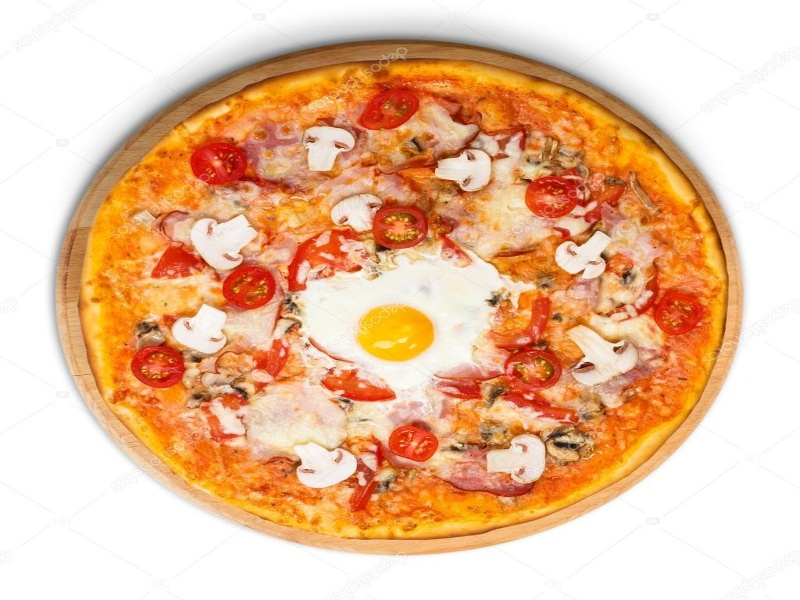champignon: (561, 323, 647, 393), (189, 210, 264, 273), (286, 439, 362, 496), (479, 429, 550, 486), (544, 228, 616, 283), (170, 299, 237, 357), (427, 144, 500, 196), (325, 189, 389, 238), (300, 121, 355, 177)
oeuf: (348, 297, 446, 365)
